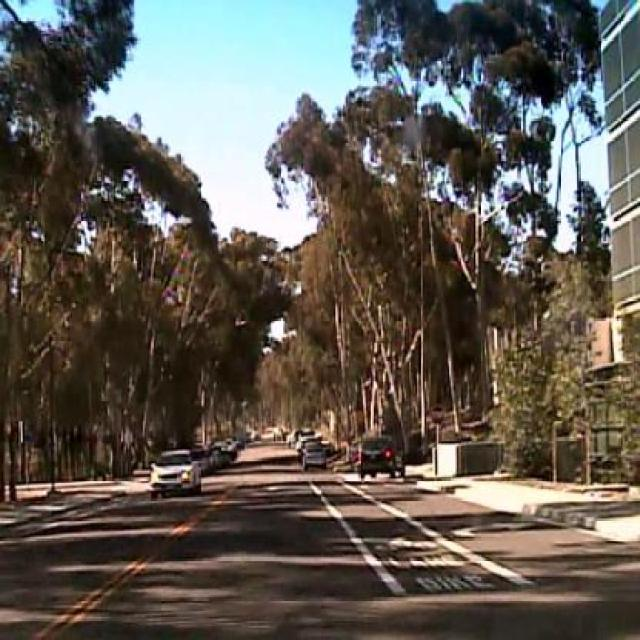stop: (429, 405, 444, 426)
